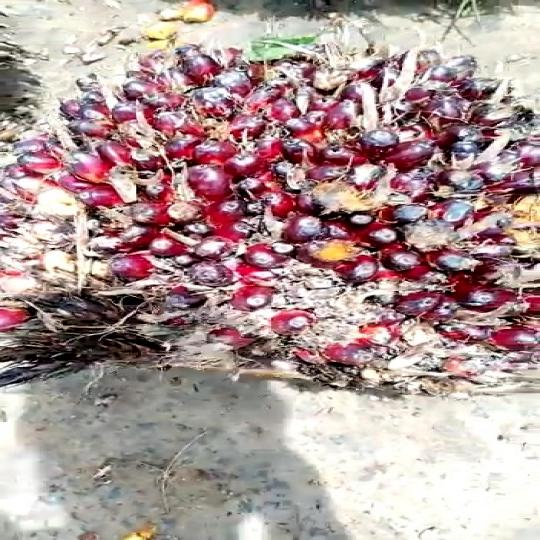masak: (0, 26, 540, 411)
